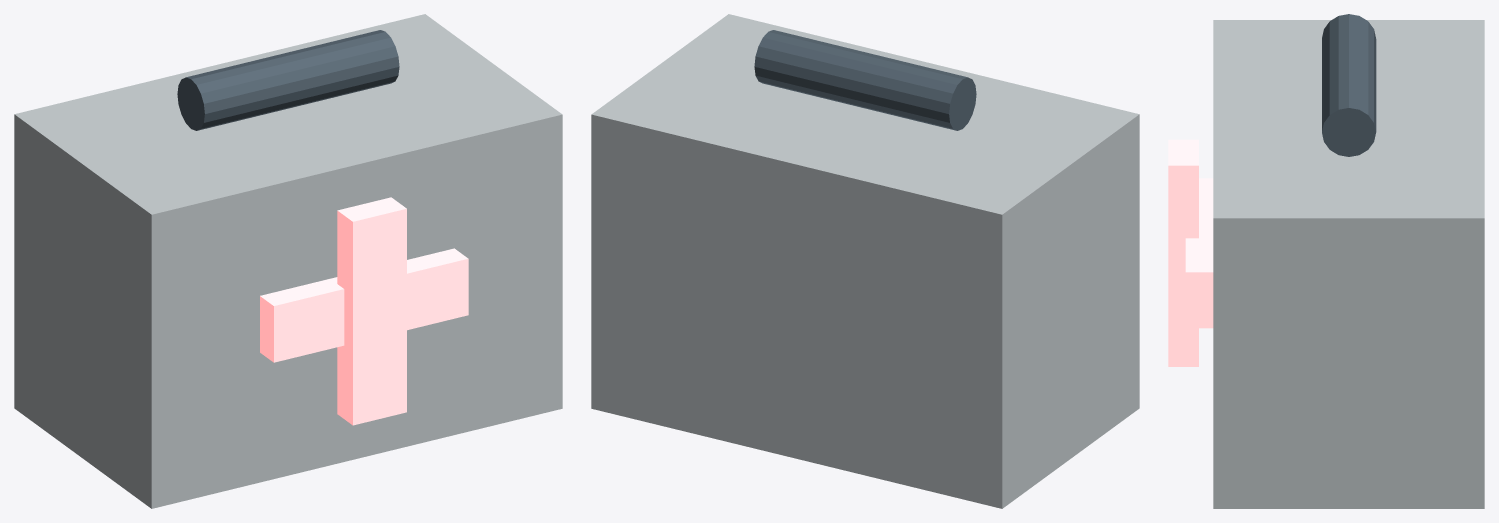
Rendered from medkit.glb.
3 renders of one model, left to right at view 1: azimuth 30°, elevation 25°; view 2: azimuth 150°, elevation 25°; view 3: azimuth 270°, elevation 25°, orthographic.
Parts seen in each view (by area): view 1: ivory_0, red_2, dark_3, red_1; view 2: ivory_0, dark_3; view 3: ivory_0, dark_3, red_2, red_1.
Boxes of the visible parts, x1,y1,x2,y2 form: ivory_0: [14, 14, 562, 508]; red_2: [337, 197, 406, 425]; dark_3: [177, 30, 399, 130]; red_1: [260, 248, 468, 362]; ivory_0: [591, 14, 1139, 508]; dark_3: [754, 30, 976, 130]; ivory_0: [1213, 20, 1484, 508]; dark_3: [1322, 14, 1376, 156]; red_2: [1168, 139, 1198, 366]; red_1: [1185, 178, 1213, 328].
Size of the model in its own units: 0.38 by 0.312 by 0.2565.
